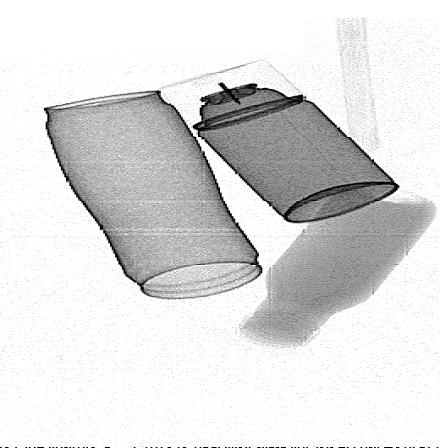Sprayer: (156, 59, 399, 223)
